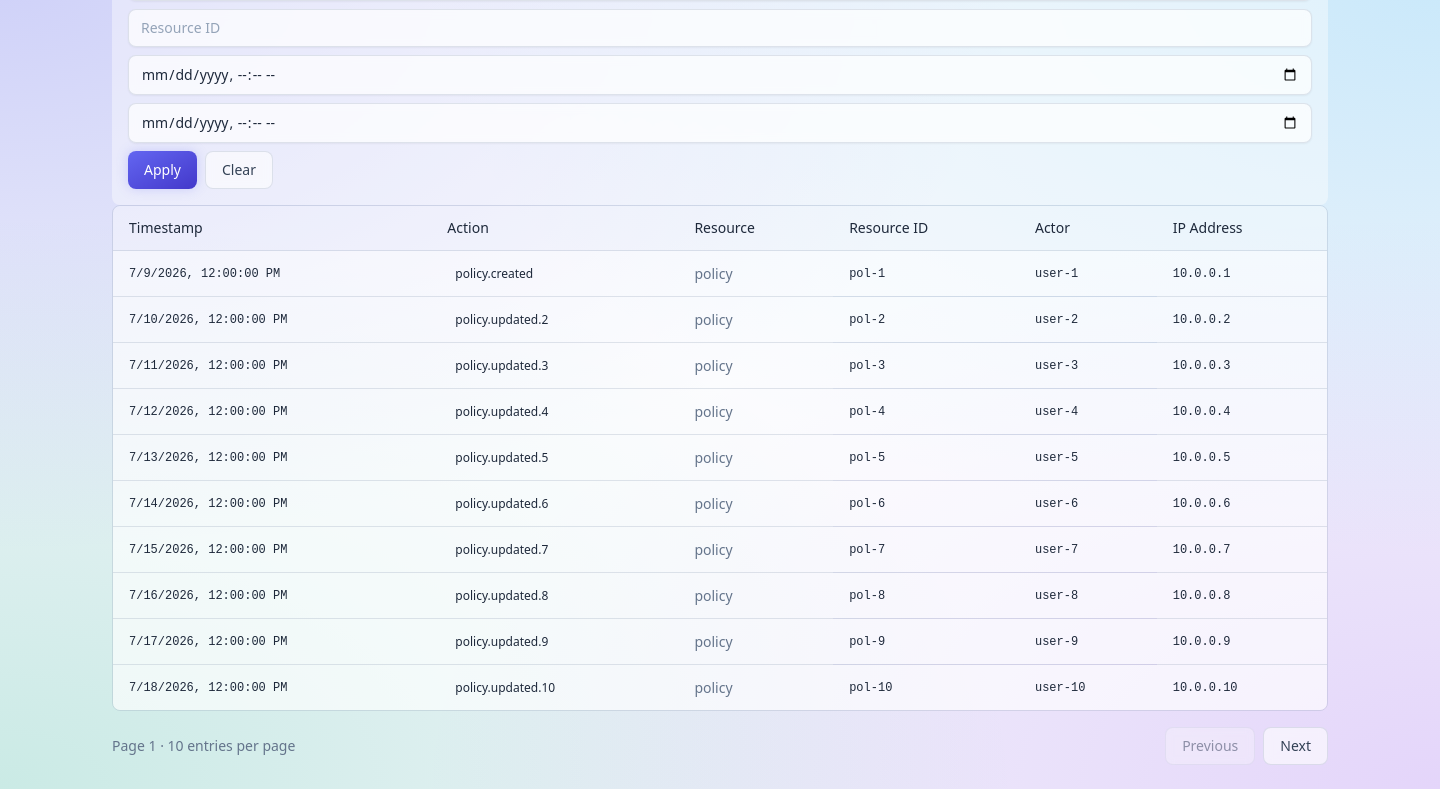
it: AuditLogPage — AC-5 › paginates audit log entries 10 at a time
(page scrolled)
Expected: the text "policy.created" is shown, top-left (455, 265), bottom-right (533, 282)
Expected: the navigation bar named "Audit log pagination" is shown, top-left (112, 727), bottom-right (1328, 765)
Click the button with aria-label "Next page". click: (1296, 746)
box: top-left (1263, 727), bottom-right (1328, 765)
(page scrolled)
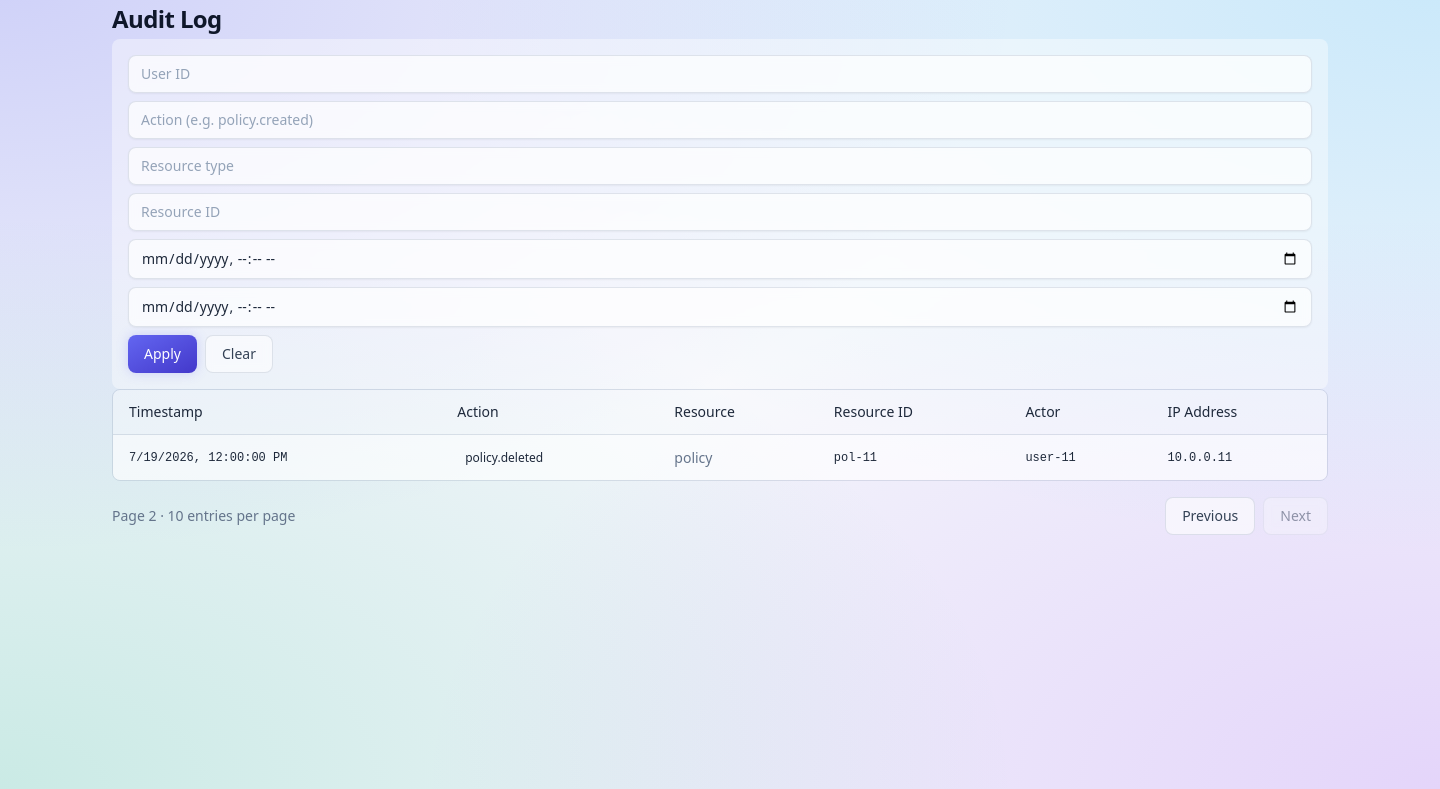
Now the text "policy.deleted" is shown, box top-left (465, 449), bottom-right (543, 466)
Now the text "Page 2 · 10 entries per page" is shown, box top-left (112, 506), bottom-right (295, 526)
Click the button with aria-label "Previous page". click: (1210, 516)
box: top-left (1165, 497), bottom-right (1255, 535)
(page scrolled)
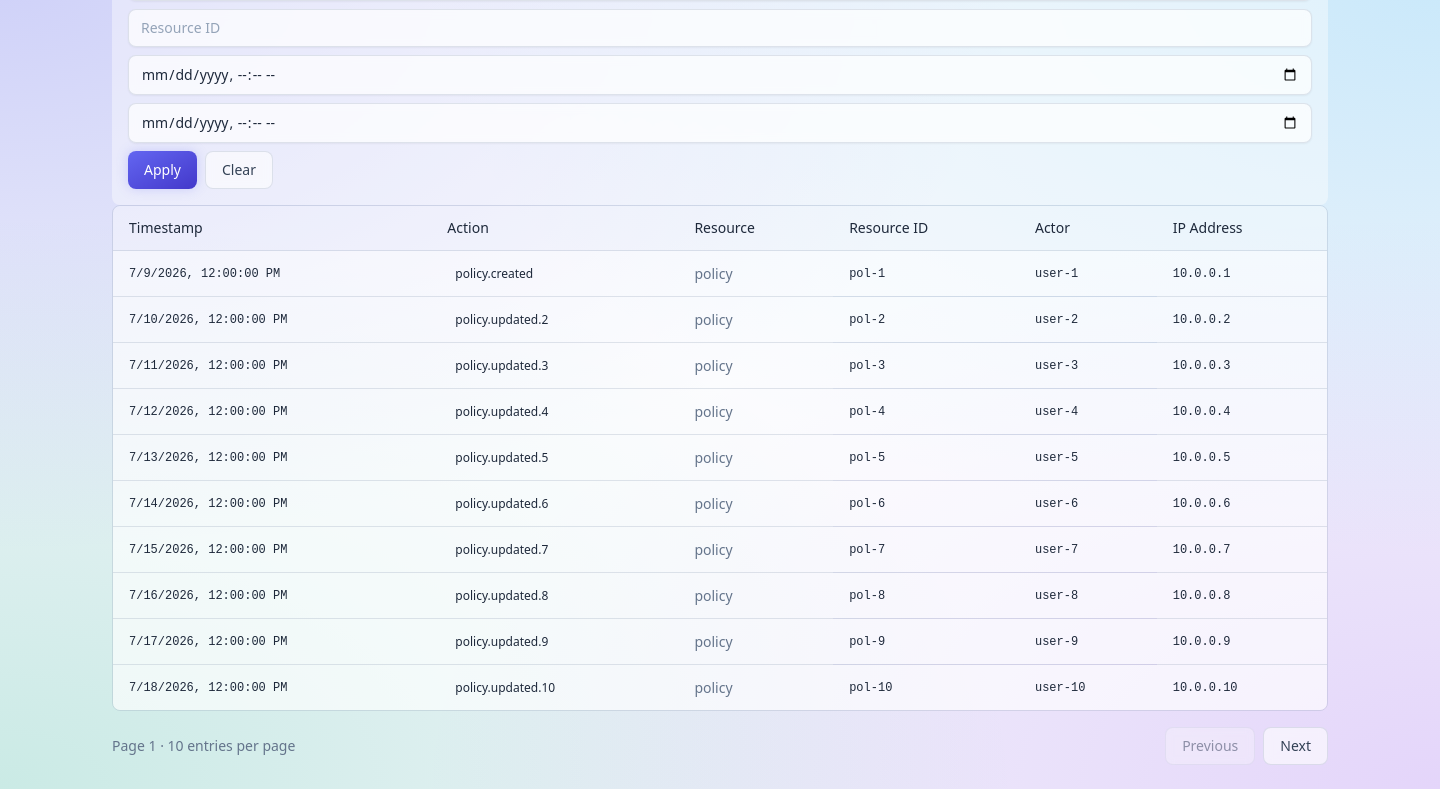
Now the text "policy.created" is shown, box top-left (455, 265), bottom-right (533, 282)
Now the text "Page 1 · 10 entries per page" is shown, box top-left (112, 736), bottom-right (295, 756)
